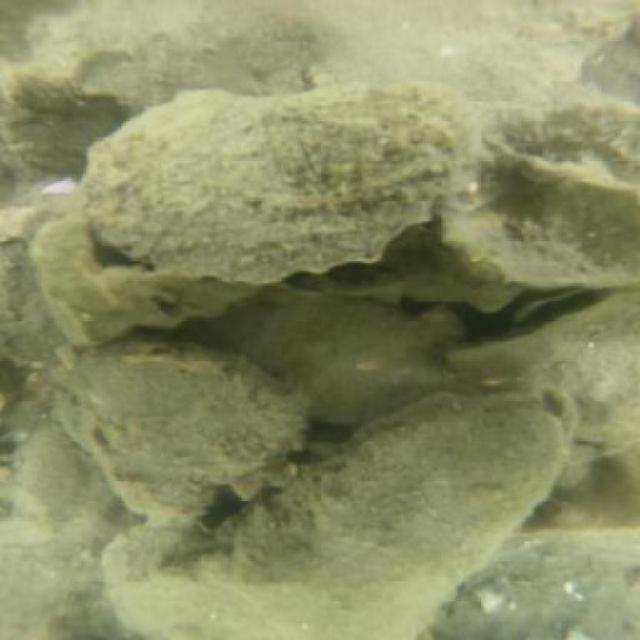Oyster-Closed: (227, 383, 574, 621)
Oyster-Indeterminate: (76, 86, 483, 279), (57, 346, 300, 517), (200, 298, 438, 425), (454, 290, 635, 450)
